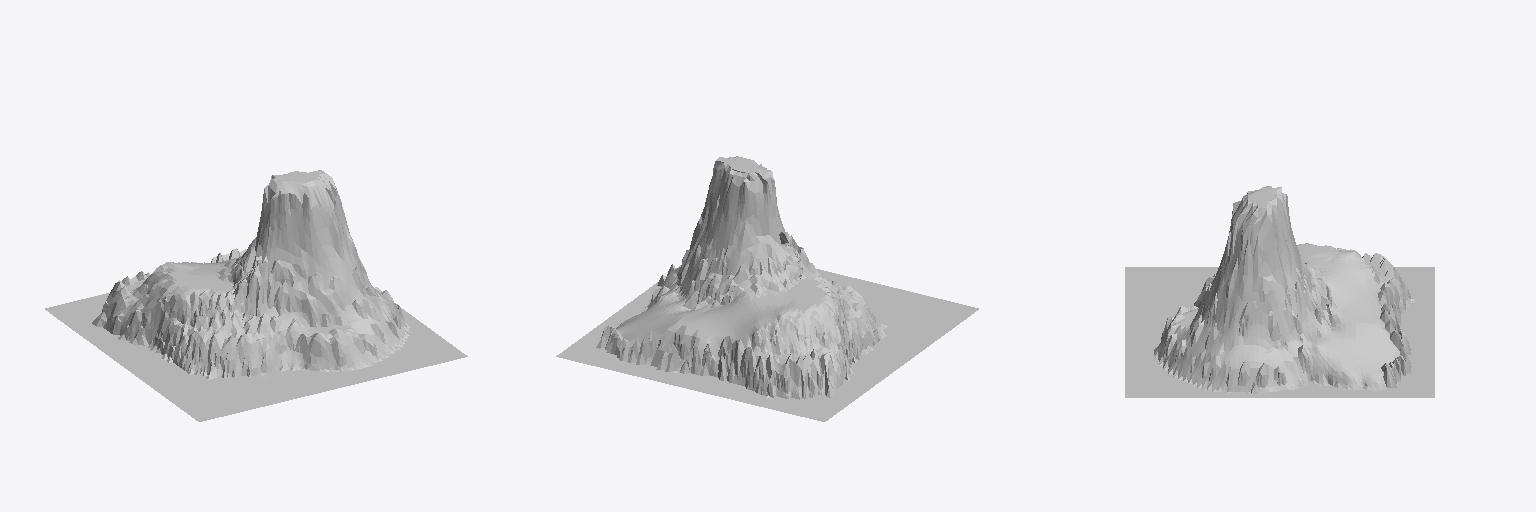
Rendered from Prova terreny 2.obj.
3 views of the same model, side by side, from view 1: azimuth 30°, elevation 25°; view 2: azimuth 150°, elevation 25°; view 3: azimuth 270°, elevation 25° (orthographic).
Visible parts, largest first — view 1: Plane; view 2: Plane; view 3: Plane.
Boxes of the visible parts, x1,y1,x2,y2 form: Plane: [45, 170, 467, 421]; Plane: [556, 156, 978, 421]; Plane: [1125, 186, 1434, 397].
Bounding box in the file's own units: 96.11 × 52.37 × 96.11.